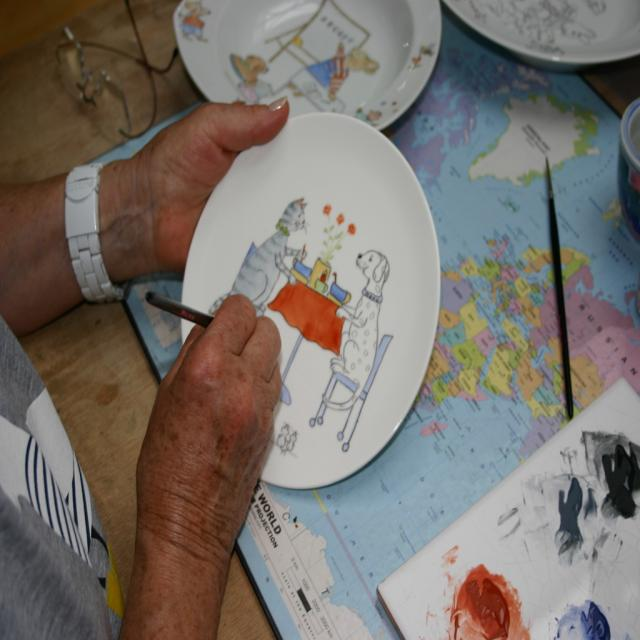non-organic waste: (172, 114, 431, 470), (162, 0, 461, 120)
